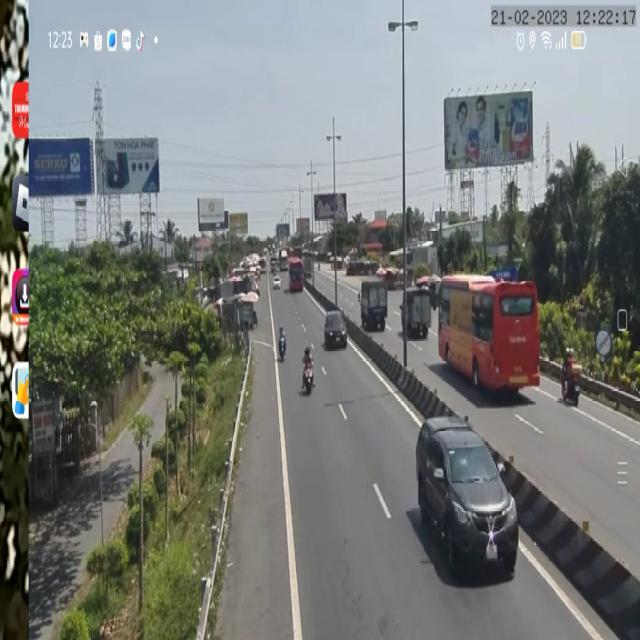bus: (437, 273, 541, 400), (286, 254, 304, 294)
car: (414, 418, 518, 588), (322, 308, 346, 350)
motorbike: (558, 340, 582, 405), (301, 345, 316, 399), (276, 323, 287, 360)
truck: (360, 278, 388, 329), (400, 288, 431, 334)
